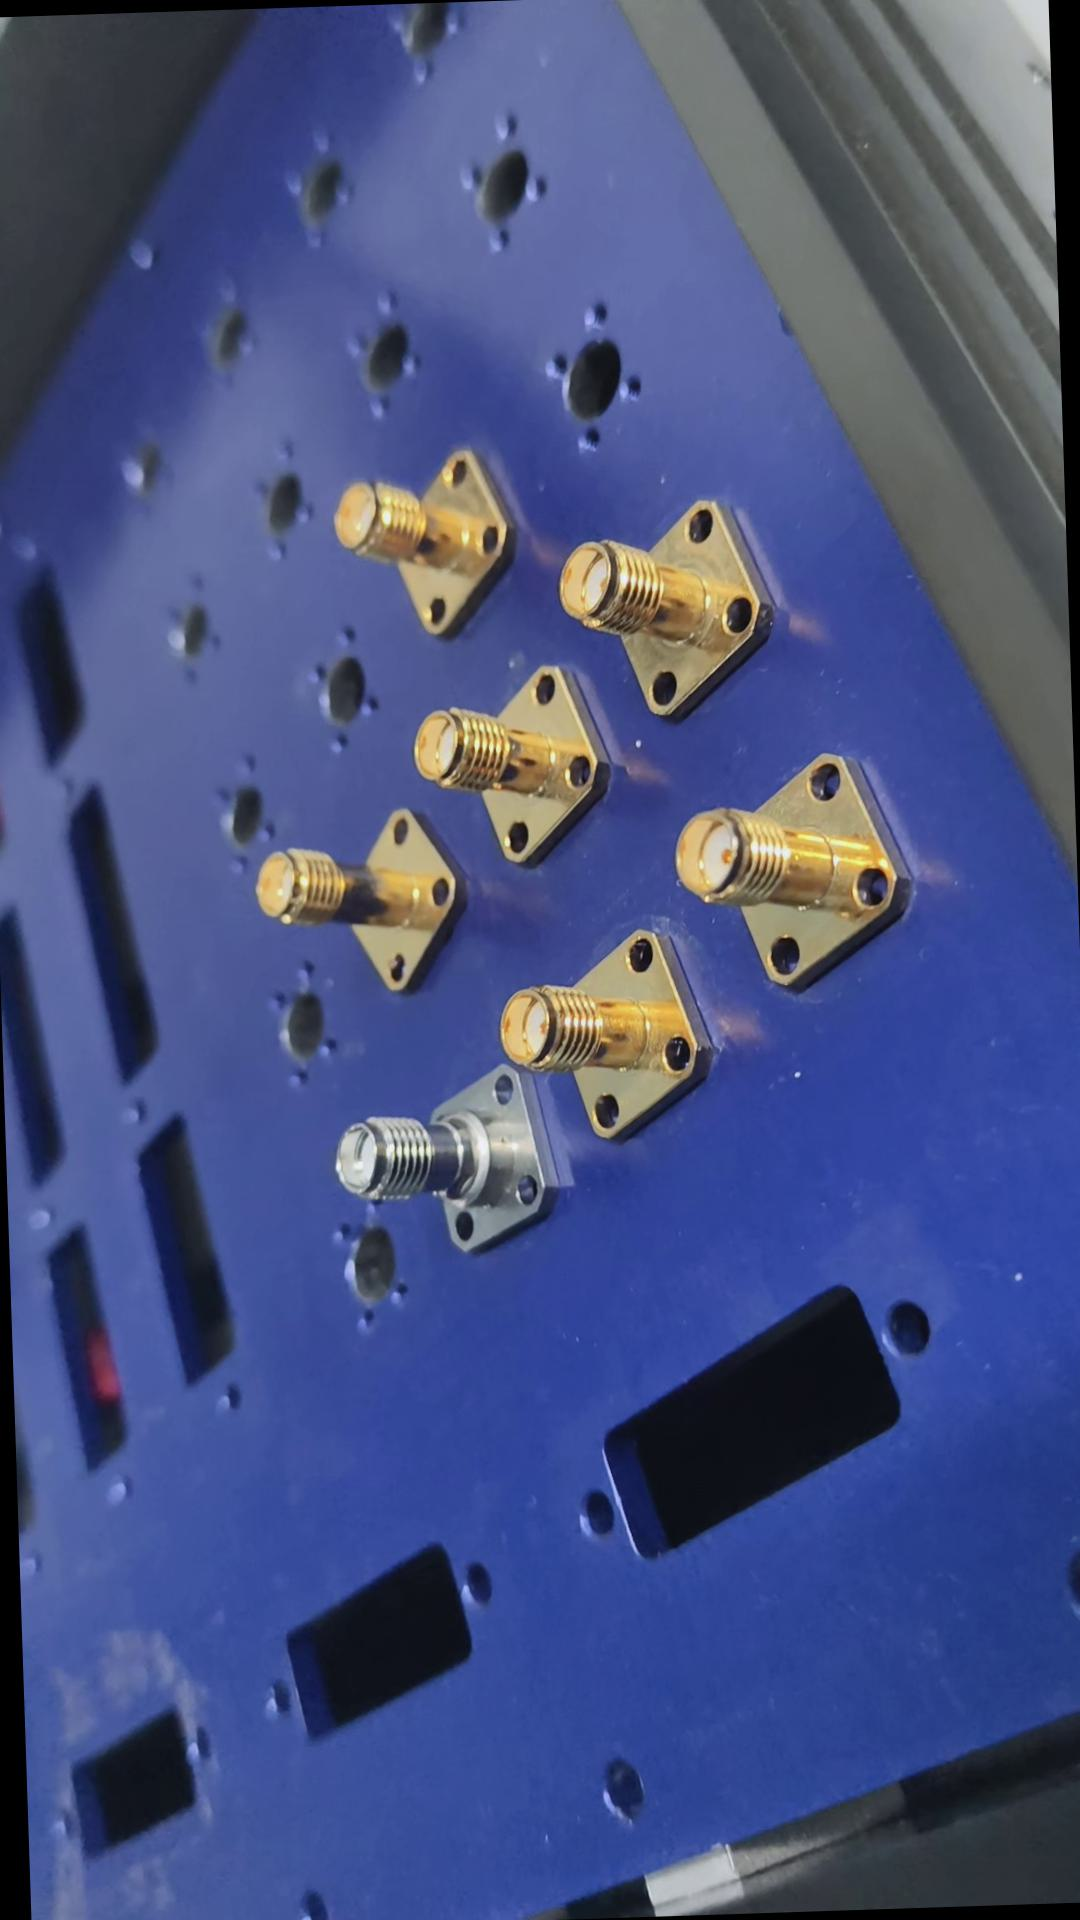SMA: (670, 749, 916, 993), (556, 495, 775, 729), (323, 1044, 558, 1261), (495, 924, 705, 1139), (407, 651, 613, 866), (251, 796, 458, 996), (324, 440, 510, 644)
